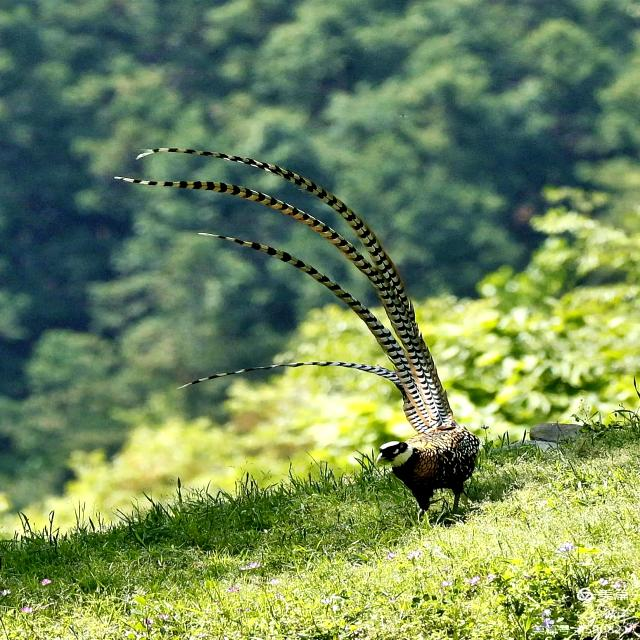Reeves-s Pheasant: (114, 147, 460, 433)
